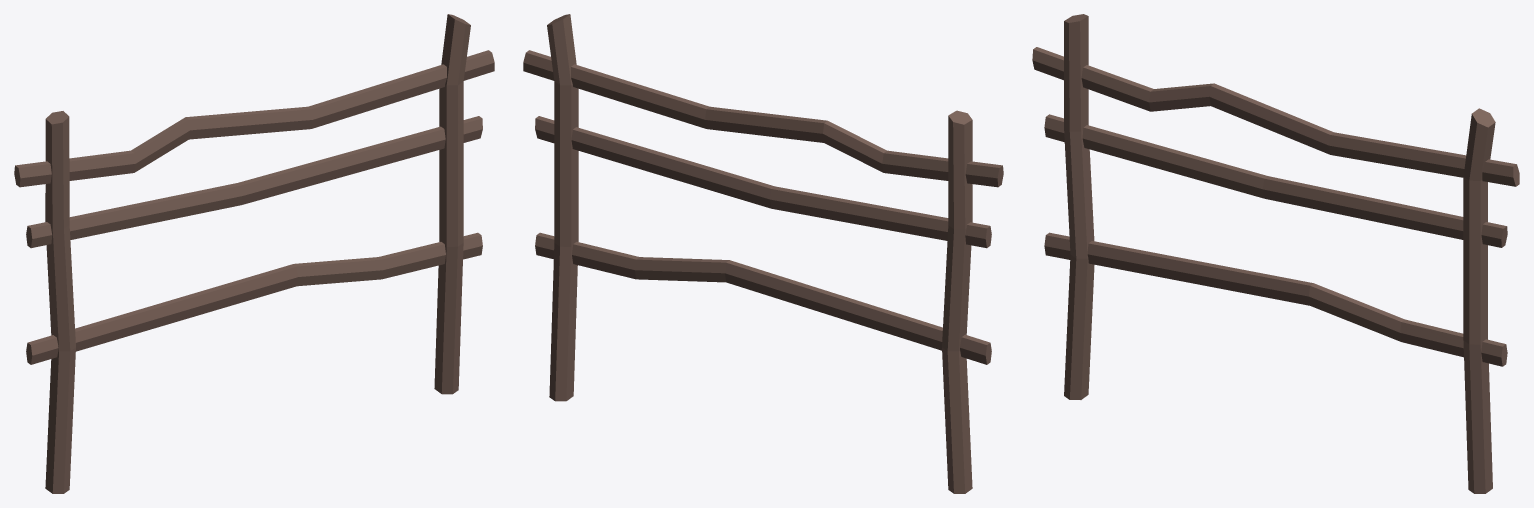
Rendered from Hurdle.fbx.
The picture shows the model from 3 angles, left to right: view 1: azimuth 30°, elevation 25°; view 2: azimuth 150°, elevation 25°; view 3: azimuth 330°, elevation 25°; orthographic projection.
Parts seen in each view (by area): view 1: Hurdle; view 2: Hurdle; view 3: Hurdle.
Part boxes in pixels (left/top/right/bottom): Hurdle: left=14, top=14, right=494, bottom=493; Hurdle: left=523, top=14, right=1003, bottom=493; Hurdle: left=1032, top=14, right=1519, bottom=493.
Size of the model in its own units: 30.22 by 22.83 by 1.94.
